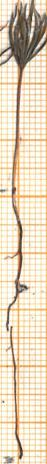flower: (3, 0, 47, 74)
root: (3, 195, 29, 460)
stem: (4, 69, 28, 198)
